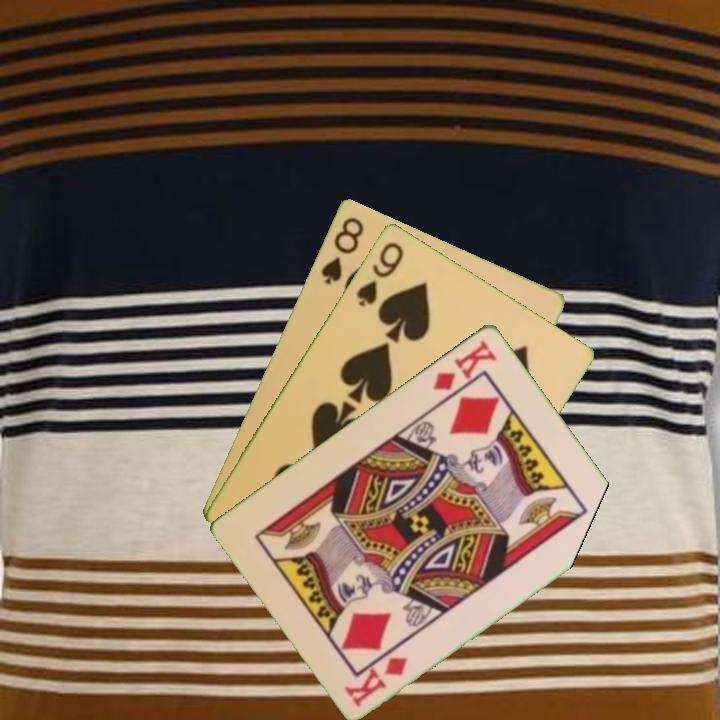8s: (317, 213, 367, 287)
9s: (352, 238, 407, 310)
Kd: (429, 335, 500, 393), (341, 652, 411, 710)
